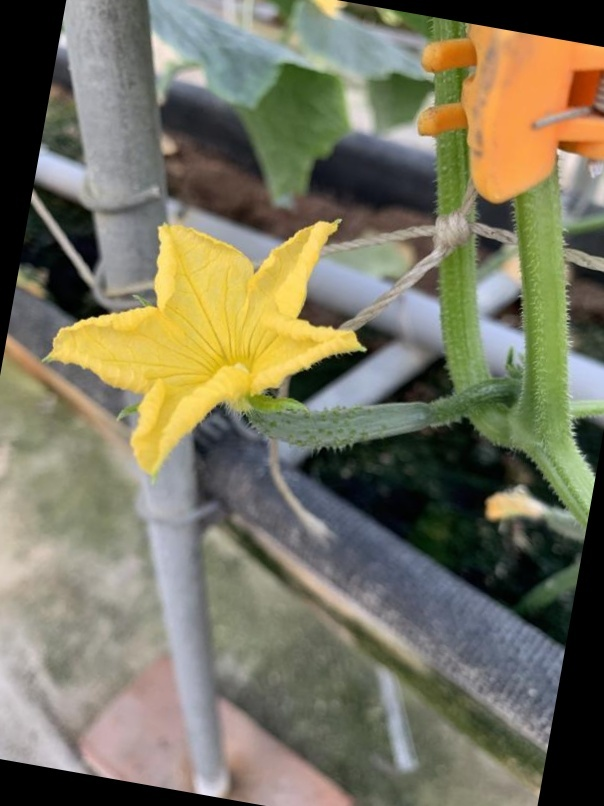flowering: (53, 220, 427, 492)
